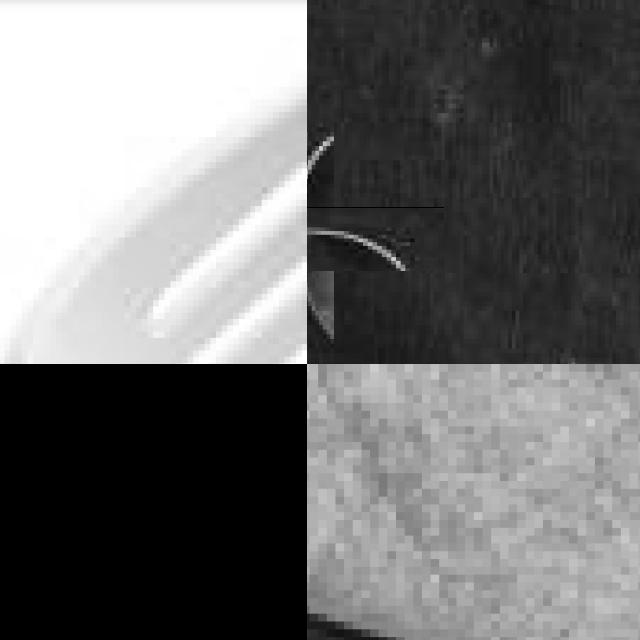forks: (0, 0, 307, 364)
spoons: (307, 152, 389, 326)
